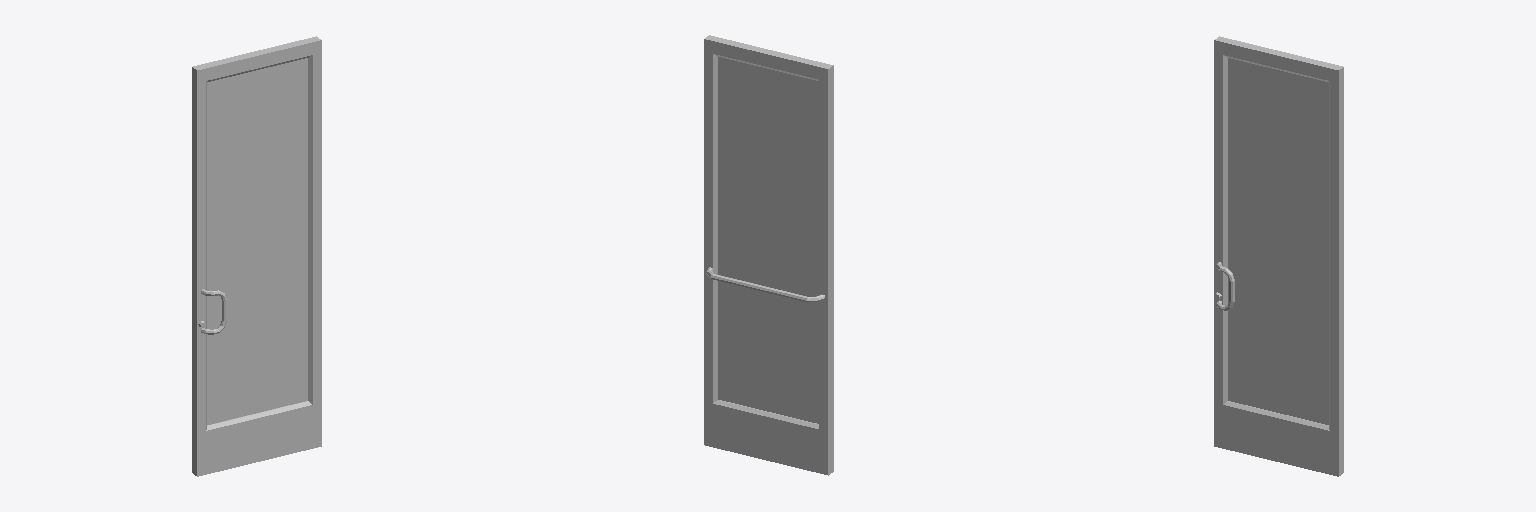
Rendered from Building_Door_Right_LOD1.obj.
The picture shows the model from 3 angles: view 1: azimuth 30°, elevation 25°; view 2: azimuth 150°, elevation 25°; view 3: azimuth 330°, elevation 25°; orthographic projection.
Parts seen in each view (by area): view 1: Building_Door_Right_LOD1 Building_Door_Right; view 2: Building_Door_Right_LOD1 Building_Door_Right; view 3: Building_Door_Right_LOD1 Building_Door_Right.
Boxes of the visible parts, x1=… form: Building_Door_Right_LOD1 Building_Door_Right: x1=192, y1=36, x2=321, y2=476; Building_Door_Right_LOD1 Building_Door_Right: x1=704, y1=35, x2=833, y2=475; Building_Door_Right_LOD1 Building_Door_Right: x1=1214, y1=36, x2=1343, y2=476.
Size of the model in its own units: 79.94 by 250 by 21.19.